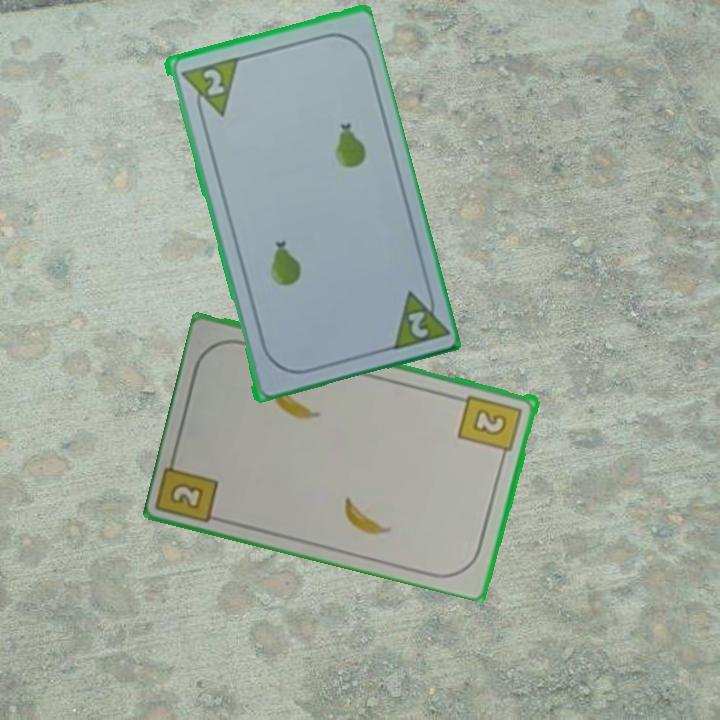2b: (455, 391, 526, 463), (166, 479, 207, 512)
2p: (198, 65, 227, 99), (403, 307, 431, 341)
